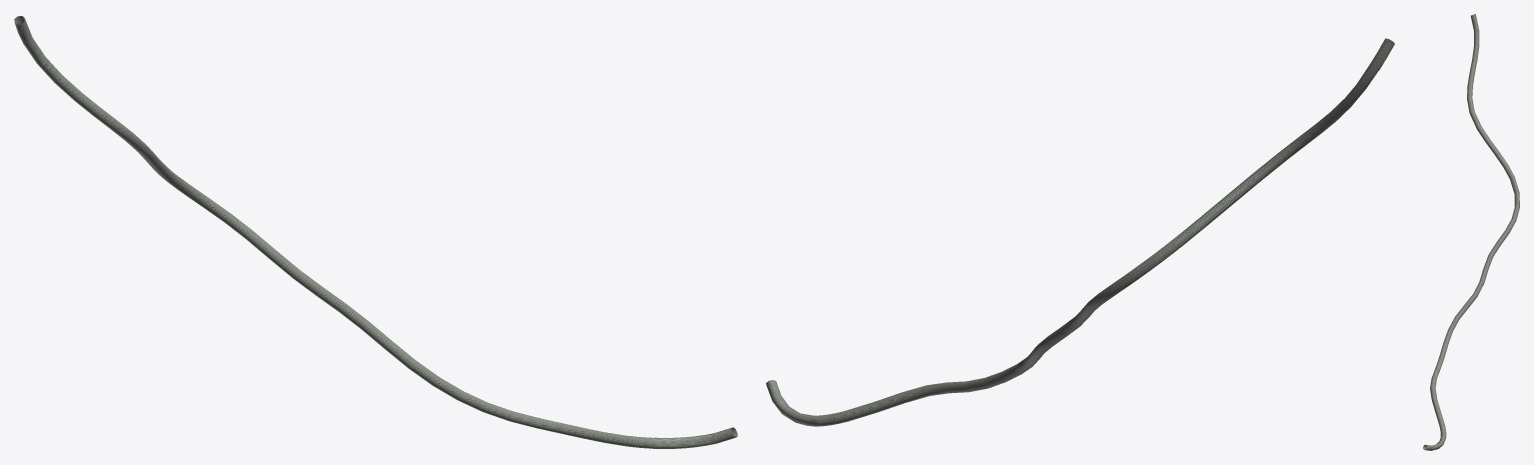
Rendered from microtubule35.fbx.
3 views of the same model, side by side, from view 1: azimuth 30°, elevation 25°; view 2: azimuth 150°, elevation 25°; view 3: azimuth 270°, elevation 25° (orthographic). The views are drawn at different scales.
Parts seen in each view (by area): view 1: microtubule35; view 2: microtubule35; view 3: microtubule35.
Part boxes in pixels (x1,y1,x2,y2): microtubule35: [14, 16, 737, 448]; microtubule35: [766, 38, 1394, 426]; microtubule35: [1423, 14, 1519, 450].
Bounding box in the file's own units: 10378 × 8218 × 2581.
1 material, 1 textured.
